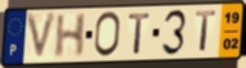3: (158, 8, 190, 57)
H: (53, 12, 89, 60)
O: (93, 10, 123, 59)
T: (127, 12, 153, 56), (195, 9, 218, 54)
V: (24, 10, 59, 63)
